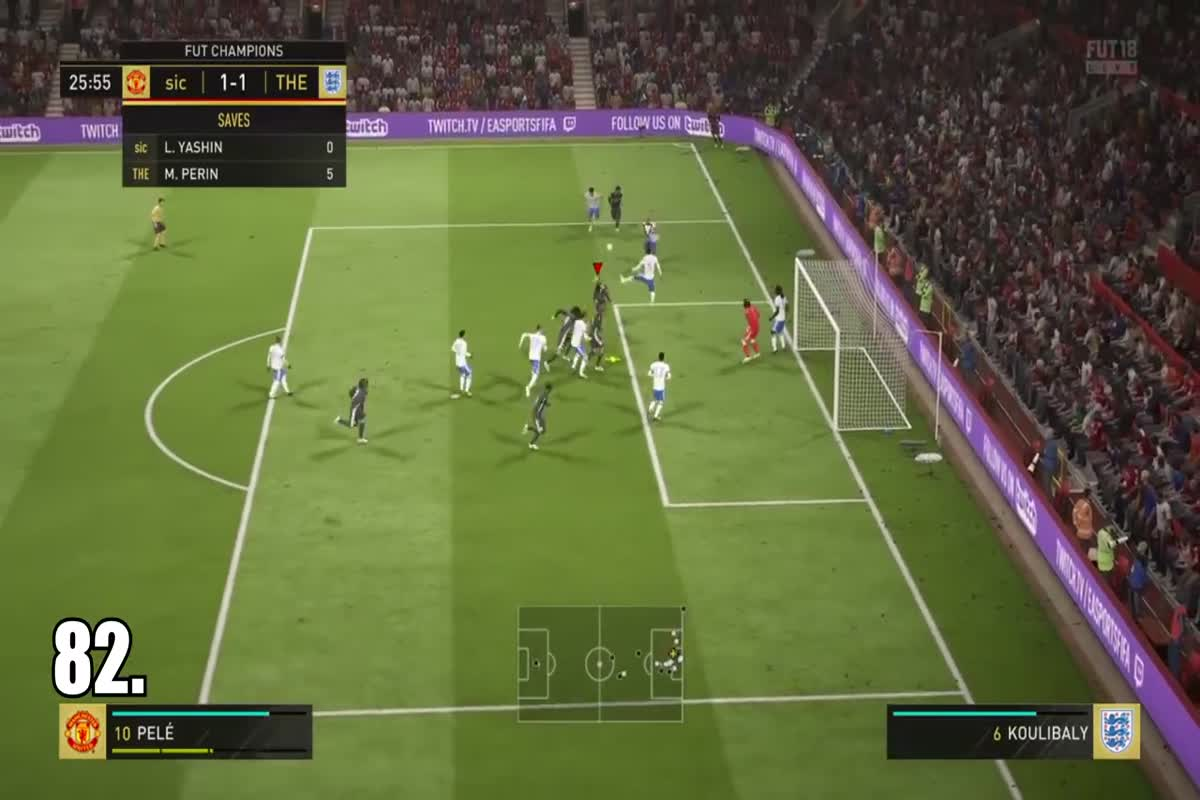ball: (603, 238, 621, 255)
